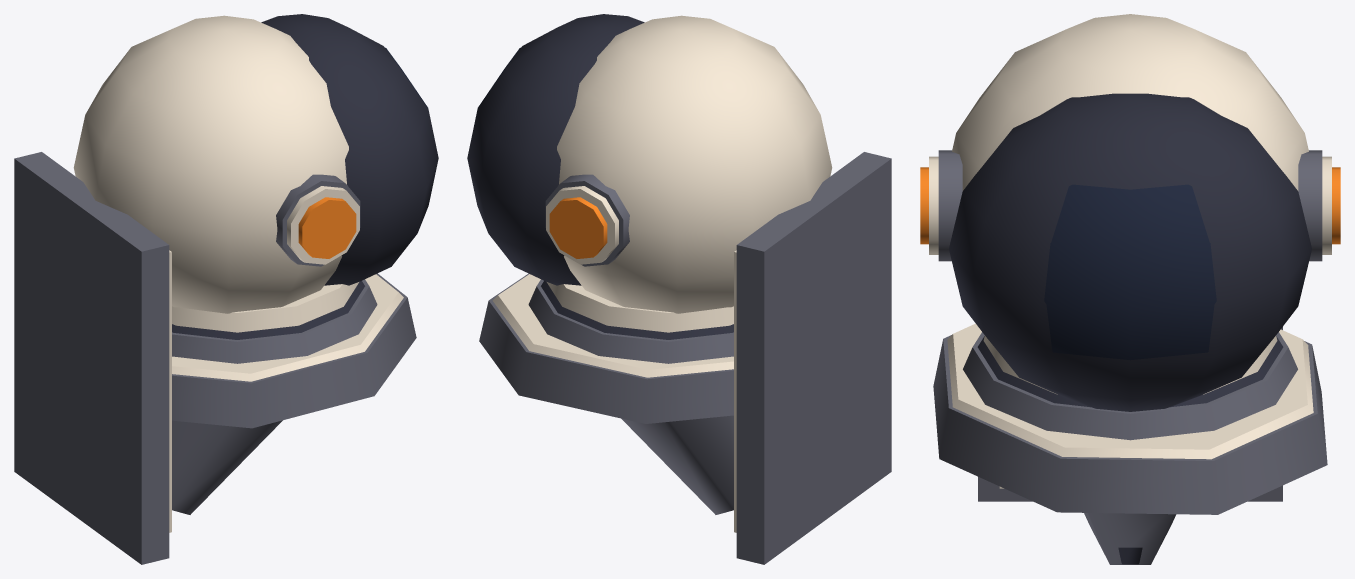
The model's file is asset.glb.
3 views of the same model, side by side, from view 1: azimuth 30°, elevation 25°; view 2: azimuth 150°, elevation 25°; view 3: azimuth 270°, elevation 25° (orthographic). The views are drawn at different scales.
Visible parts, largest first — view 1: Mesh_HelmetShell, Mesh_WallPlateOuter, Mesh_VisorGasket, Mesh_ShelfTray, Mesh_BracketGusset, Mesh_DockingCollar, Mesh_ShelfTrayChamfer, Mesh_HelmetNeckRing, Mesh_EarPodOrange_R, Mesh_EarPodRim_R, Mesh_DockingGasket, Mesh_EarPodBase_R (+1 smaller); view 2: Mesh_HelmetShell, Mesh_WallPlateOuter, Mesh_VisorGasket, Mesh_ShelfTray, Mesh_BracketGusset, Mesh_DockingCollar, Mesh_ShelfTrayChamfer, Mesh_HelmetNeckRing, Mesh_EarPodOrange_L, Mesh_EarPodRim_L, Mesh_DockingGasket, Mesh_EarPodBase_L (+1 smaller); view 3: Mesh_VisorGasket, Mesh_VisorLens, Mesh_HelmetShell, Mesh_ShelfTray, Mesh_ShelfTrayChamfer, Mesh_DockingCollar, Mesh_BracketGusset, Mesh_DockingGasket, Mesh_EarPodBase_L, Mesh_EarPodBase_R, Mesh_WallPlateOuter, Mesh_EarPodRim_L (+4 smaller).
Boxes of the visible parts, x1,y1,x2,y2 form: Mesh_HelmetShell: (73, 15, 348, 313); Mesh_WallPlateOuter: (14, 152, 169, 564); Mesh_VisorGasket: (261, 14, 438, 285); Mesh_ShelfTray: (172, 273, 416, 428); Mesh_BracketGusset: (172, 420, 282, 514); Mesh_DockingCollar: (172, 279, 377, 363); Mesh_ShelfTrayChamfer: (172, 274, 403, 381); Mesh_HelmetNeckRing: (172, 282, 358, 332); Mesh_EarPodOrange_R: (298, 197, 356, 258); Mesh_EarPodRim_R: (287, 186, 359, 264); Mesh_DockingGasket: (172, 281, 364, 339); Mesh_EarPodBase_R: (276, 174, 360, 266); Mesh_HelmetShell: (557, 15, 832, 313); Mesh_WallPlateOuter: (736, 152, 891, 564); Mesh_VisorGasket: (467, 14, 644, 285); Mesh_ShelfTray: (479, 273, 733, 423); Mesh_BracketGusset: (621, 415, 733, 514); Mesh_DockingCollar: (528, 279, 733, 363); Mesh_ShelfTrayChamfer: (492, 274, 733, 377); Mesh_HelmetNeckRing: (547, 282, 733, 332); Mesh_EarPodOrange_L: (549, 197, 607, 258); Mesh_EarPodRim_L: (546, 186, 618, 264); Mesh_DockingGasket: (541, 281, 733, 339); Mesh_EarPodBase_L: (545, 174, 629, 266); Mesh_VisorGasket: (949, 93, 1311, 411); Mesh_VisorLens: (1044, 184, 1216, 360); Mesh_HelmetShell: (952, 14, 1308, 190); Mesh_ShelfTray: (933, 335, 1327, 514); Mesh_ShelfTrayChamfer: (947, 323, 1313, 459); Mesh_DockingCollar: (963, 332, 1297, 440); Mesh_BracketGusset: (1084, 513, 1176, 564); Mesh_DockingGasket: (977, 336, 1283, 407); Mesh_EarPodBase_L: (1298, 150, 1322, 261); Mesh_EarPodBase_R: (938, 150, 962, 261); Mesh_WallPlateOuter: (978, 327, 1282, 501); Mesh_EarPodRim_L: (1322, 156, 1331, 254).
Bounding box in the file's own units: 0.4293 × 0.5676 × 0.386.
